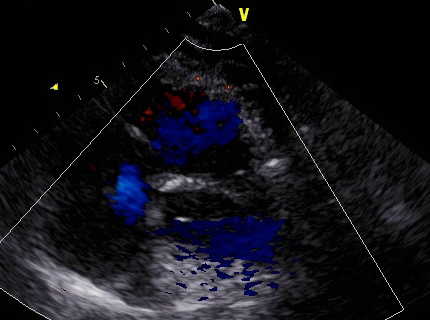TR: (96, 151, 160, 220)
